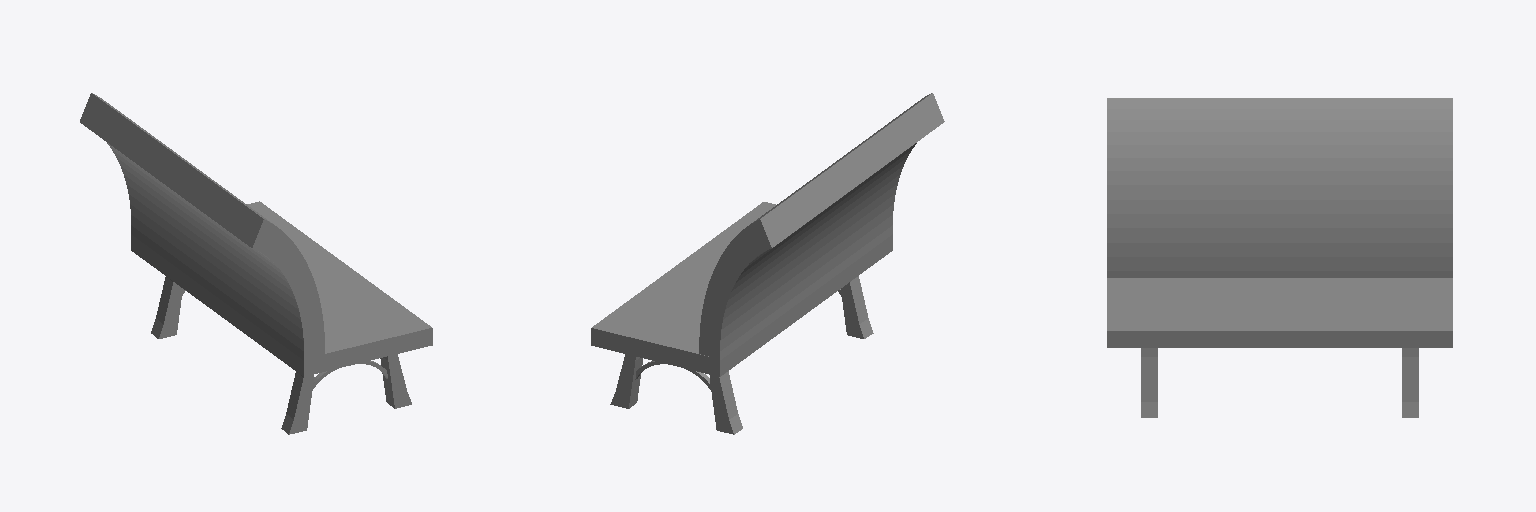
Rendered from banca-parque-01.obj.
3 renders of one model, left to right at view 1: azimuth 30°, elevation 25°; view 2: azimuth 150°, elevation 25°; view 3: azimuth 270°, elevation 25°, orthographic.
Parts seen in each view (by area): view 1: Tube001, Box005, Box015, Box014, Box012; view 2: Tube001, Box005, Box014, Box015, Box013; view 3: Tube001, Box005, Box012, Box013.
Boxes of the visible parts, <box> form: Tube001: <box>80,93,324,359</box>; Box005: <box>131,201,432,376</box>; Box015: <box>281,372,313,434</box>; Box014: <box>151,277,182,338</box>; Box012: <box>380,354,411,408</box>; Tube001: <box>699,93,944,359</box>; Box005: <box>591,202,892,376</box>; Box014: <box>710,371,742,434</box>; Box015: <box>841,276,873,338</box>; Box013: <box>610,354,642,408</box>; Tube001: <box>1107,98,1452,277</box>; Box005: <box>1107,278,1452,347</box>; Box012: <box>1141,348,1157,417</box>; Box013: <box>1402,348,1418,417</box>.
Bounding box in the file's own units: 56.05 × 70.73 × 92.94.